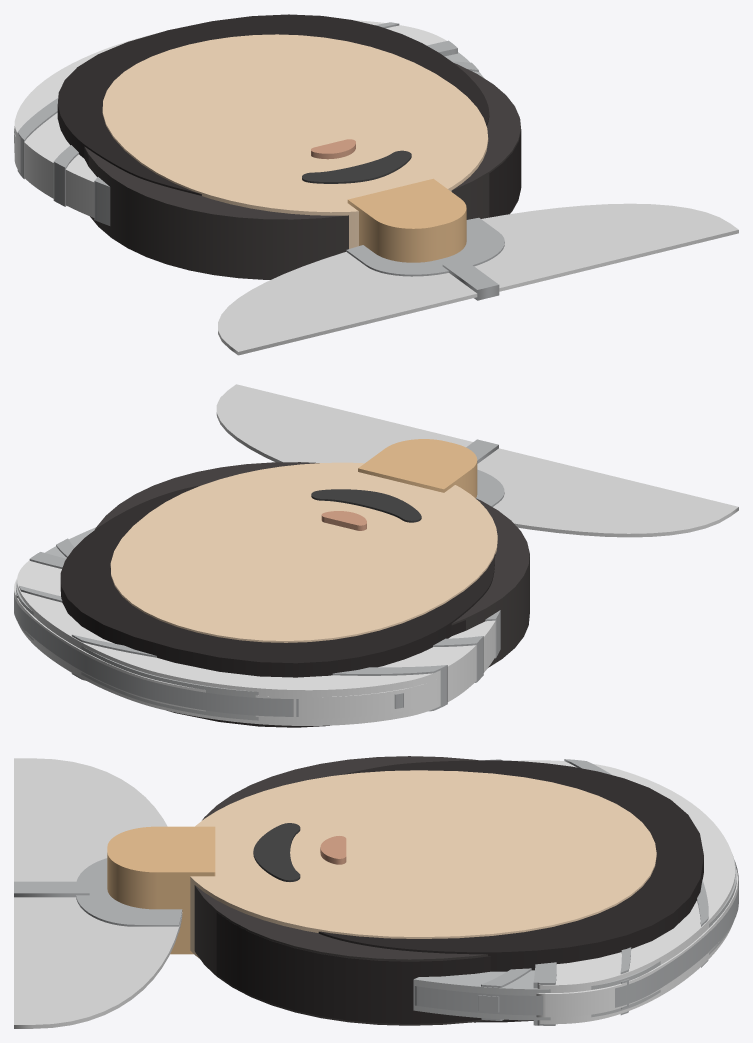
The model's file is emoji_u1f473_1f3fb_200d_2640.glb.
3 views of the same model, one above another, from view 1: azimuth 30°, elevation 25°; view 2: azimuth 150°, elevation 25°; view 3: azimuth 270°, elevation 25° (orthographic). The views are drawn at different scales.
Parts seen in each view (by area): view 1: emoji_u1f473_1f3fb_200d_2640; view 2: emoji_u1f473_1f3fb_200d_2640; view 3: emoji_u1f473_1f3fb_200d_2640.
Part boxes in pixels (x1,y1,x2,y2): emoji_u1f473_1f3fb_200d_2640: [14, 14, 738, 355]; emoji_u1f473_1f3fb_200d_2640: [14, 384, 738, 727]; emoji_u1f473_1f3fb_200d_2640: [14, 756, 738, 1028].
Size of the model in its own units: 0.0294 by 0.0044 by 0.0337.
